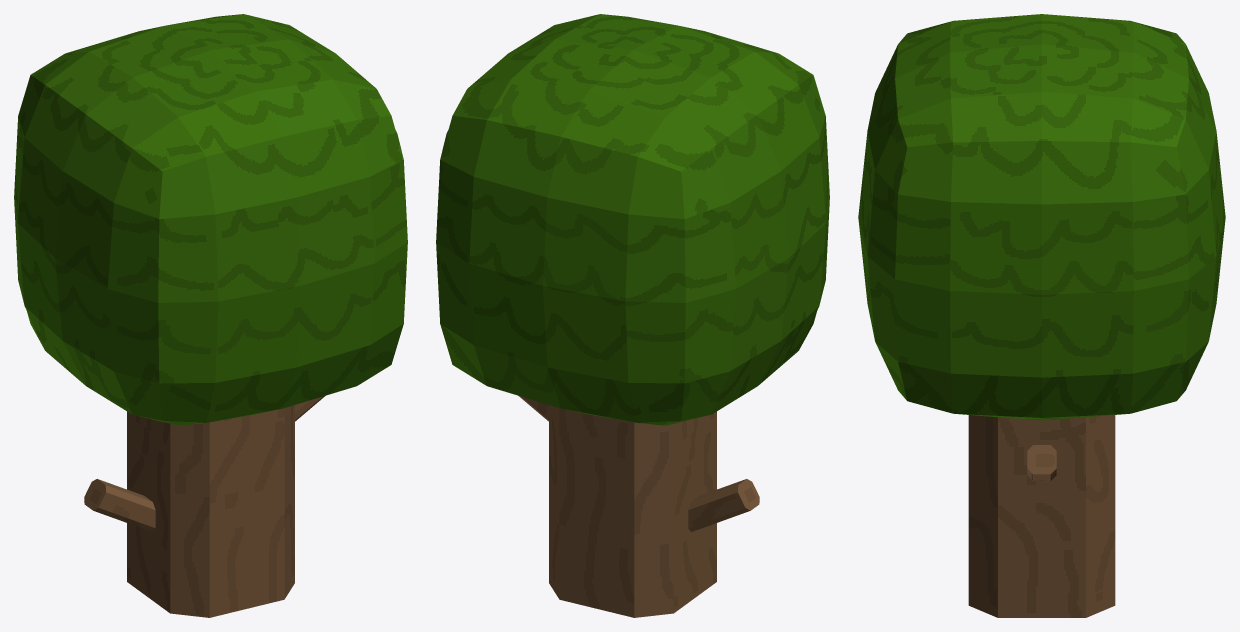
Rendered from tree3dsummer.gltf.
3 views of the same model, side by side, from view 1: azimuth 30°, elevation 25°; view 2: azimuth 150°, elevation 25°; view 3: azimuth 270°, elevation 25° (orthographic).
Visible parts, largest first — view 1: beveled_cuboid; view 2: beveled_cuboid; view 3: beveled_cuboid.
Boxes of the visible parts, <box> form: beveled_cuboid: <box>14,14,407,617</box>; beveled_cuboid: <box>436,14,829,617</box>; beveled_cuboid: <box>858,14,1225,617</box>.
Bounding box in the file's own units: 1.56 × 2.55 × 1.56.
Materials: 2 (2 with a texture image).
